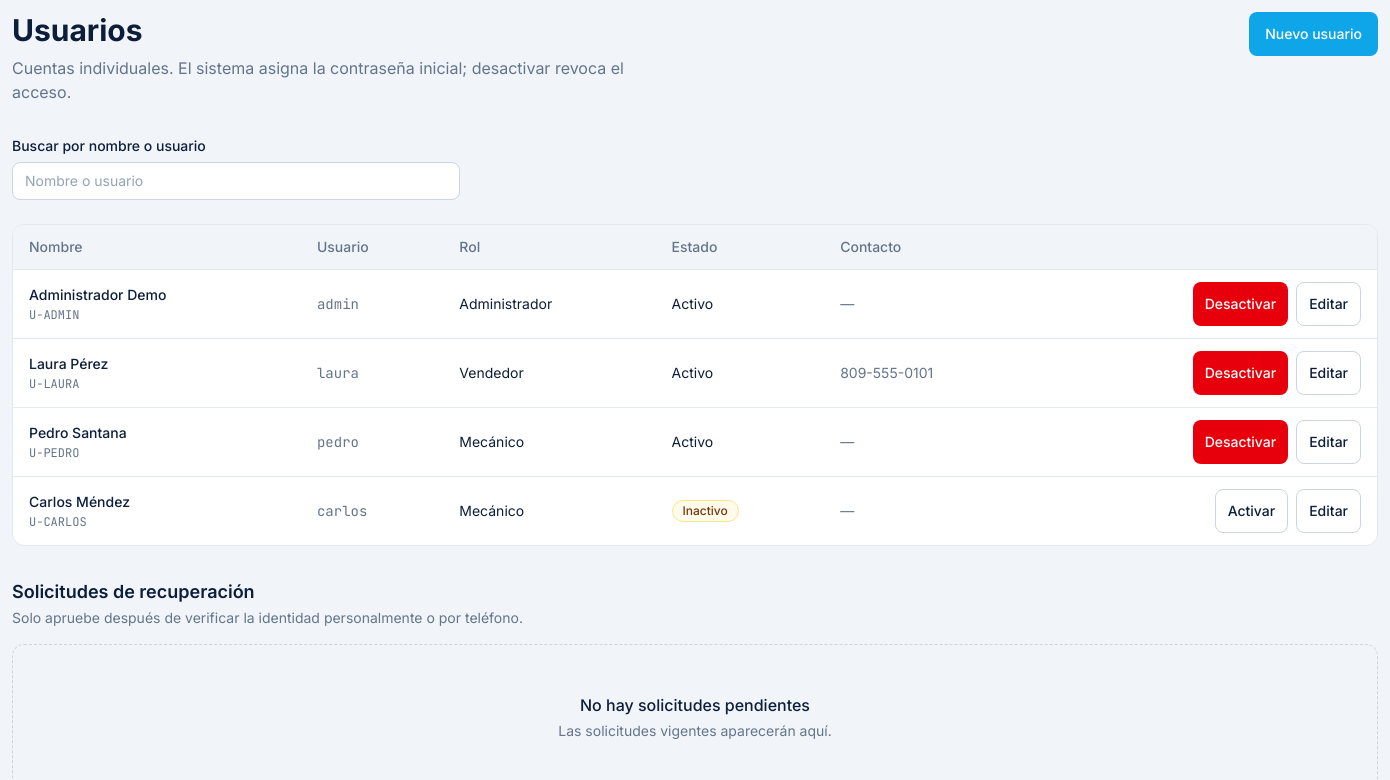
UsersPage › shows Carlos as inactive and can filter by username
The image size is (1390, 780).
expect the text "Carlos Méndez" is shown: met, box x1=29 y1=493 x2=130 y2=510
expect the text "Inactivo" is shown: met, box x1=672 y1=500 x2=739 y2=522
Type "pedro" into the search field labelled "Buscar por nombre o usuario" at (236, 181), box x1=12 y1=162 x2=460 y2=200
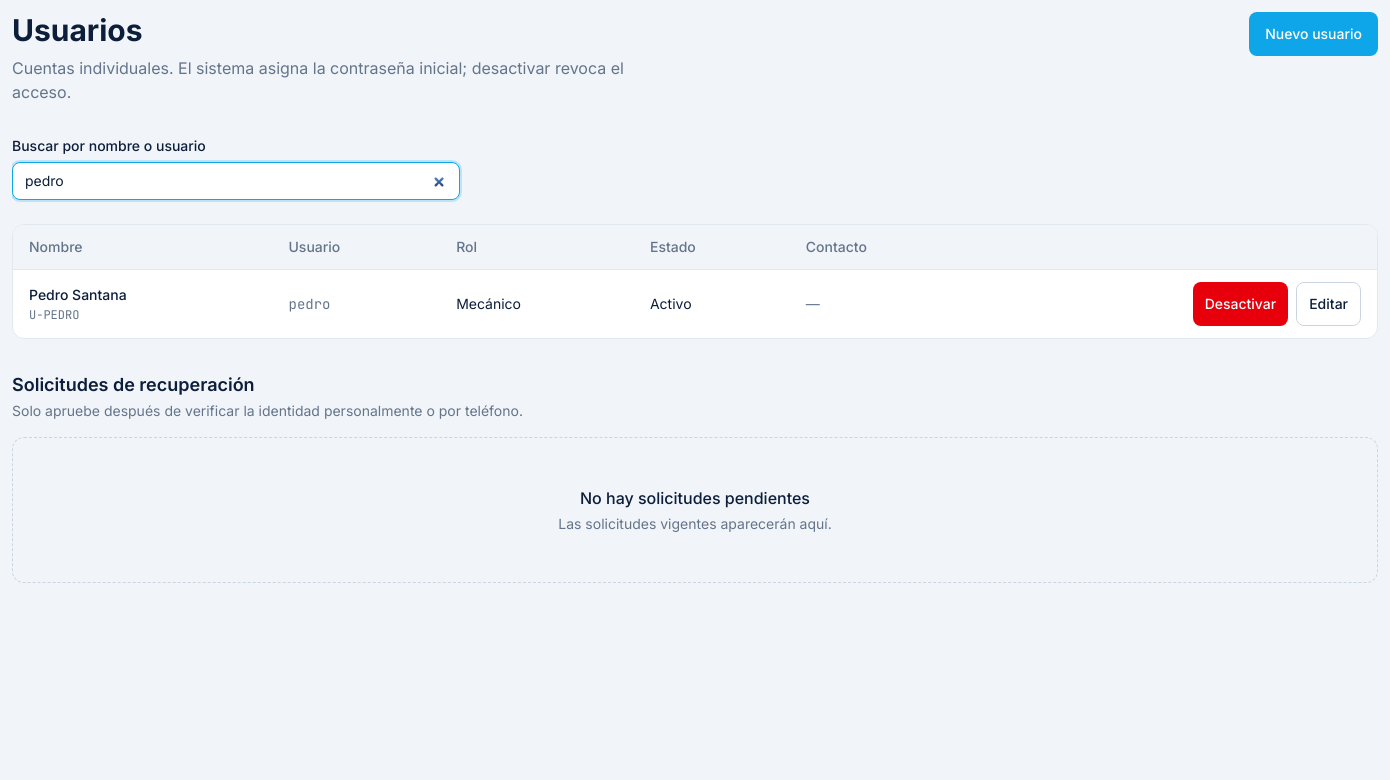
expect the text "Pedro Santana" is shown: met, box x1=29 y1=286 x2=127 y2=303
expect the text "Laura Pérez" is gone: met
